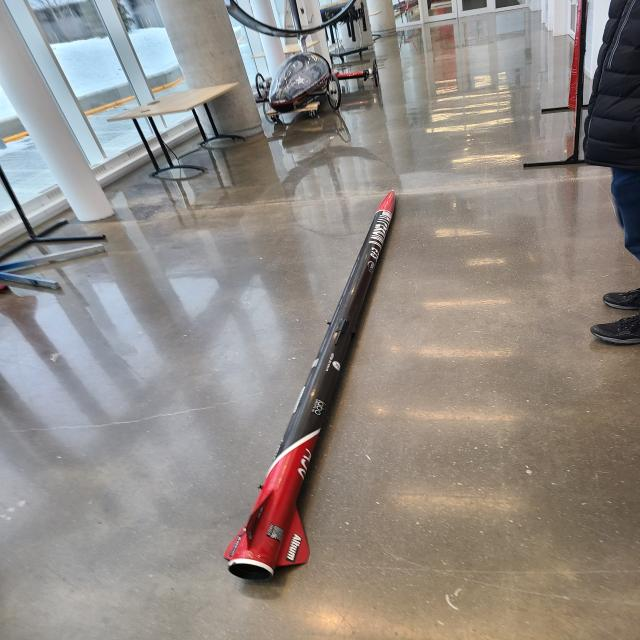Rocket: (224, 189, 395, 580)
